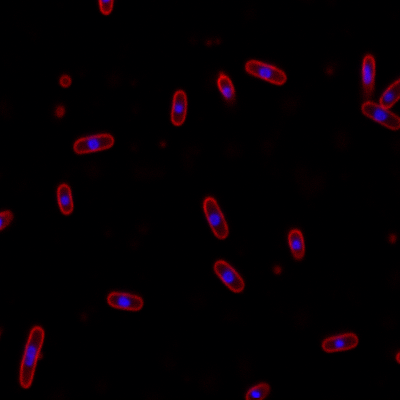CAM: (17, 325, 45, 390), (200, 195, 230, 241), (357, 100, 400, 130), (244, 57, 286, 86), (213, 258, 247, 293), (69, 132, 116, 155), (321, 331, 361, 355), (105, 290, 144, 312), (170, 88, 189, 128), (286, 229, 308, 260), (54, 182, 74, 216)
Oblique: (359, 52, 377, 101), (213, 74, 237, 106)
Vesicle: (51, 104, 65, 120), (57, 74, 72, 88), (387, 231, 398, 244), (157, 138, 168, 150), (272, 263, 281, 276)
